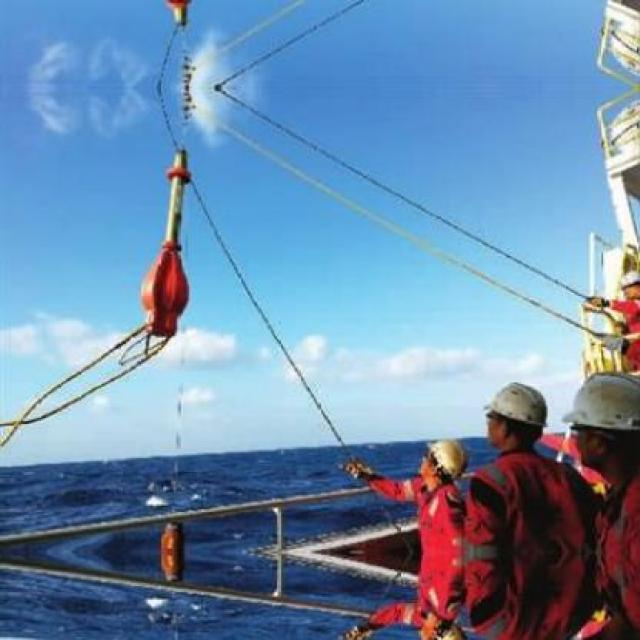helmet: (564, 365, 636, 472), (482, 376, 552, 456), (418, 436, 471, 485), (418, 618, 472, 637)
